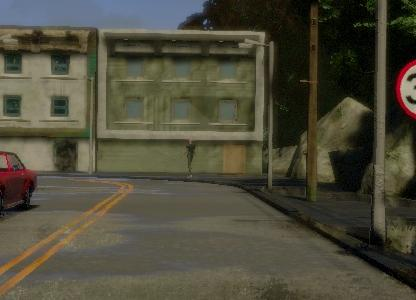Speed_30: (393, 56, 416, 125)
